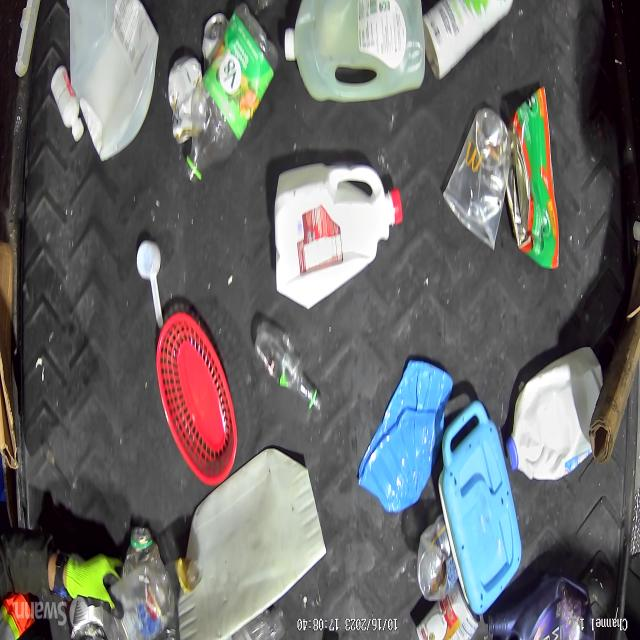can: (511, 98, 565, 274)
milk_jug: (272, 160, 406, 310), (68, 11, 162, 167), (289, 0, 425, 102), (507, 355, 607, 483)
non_white_jug: (481, 576, 596, 640)
plastic_bottle: (187, 18, 275, 185), (106, 556, 195, 639), (258, 326, 322, 419)
